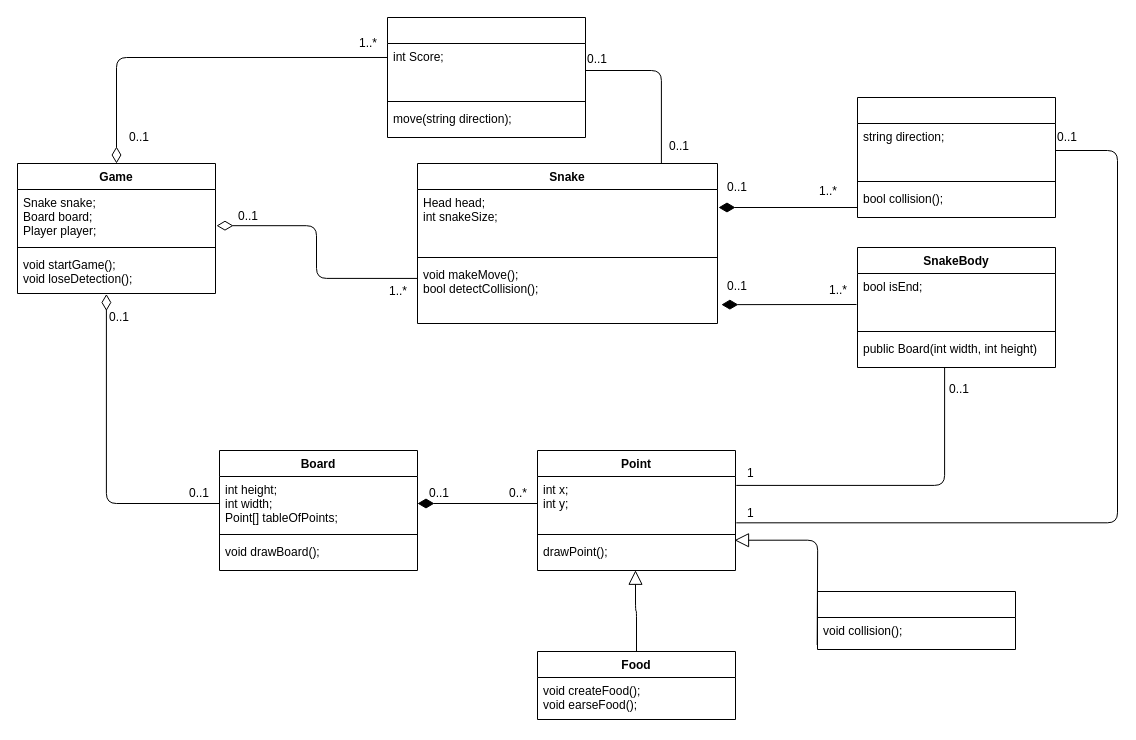
Image size: 1136x740. Some labels were removed from this diagram. Each missing label, with the box of its shape:
Head: (856, 96, 1056, 218)
Player: (386, 16, 586, 138)
Wall: (816, 590, 1016, 650)
